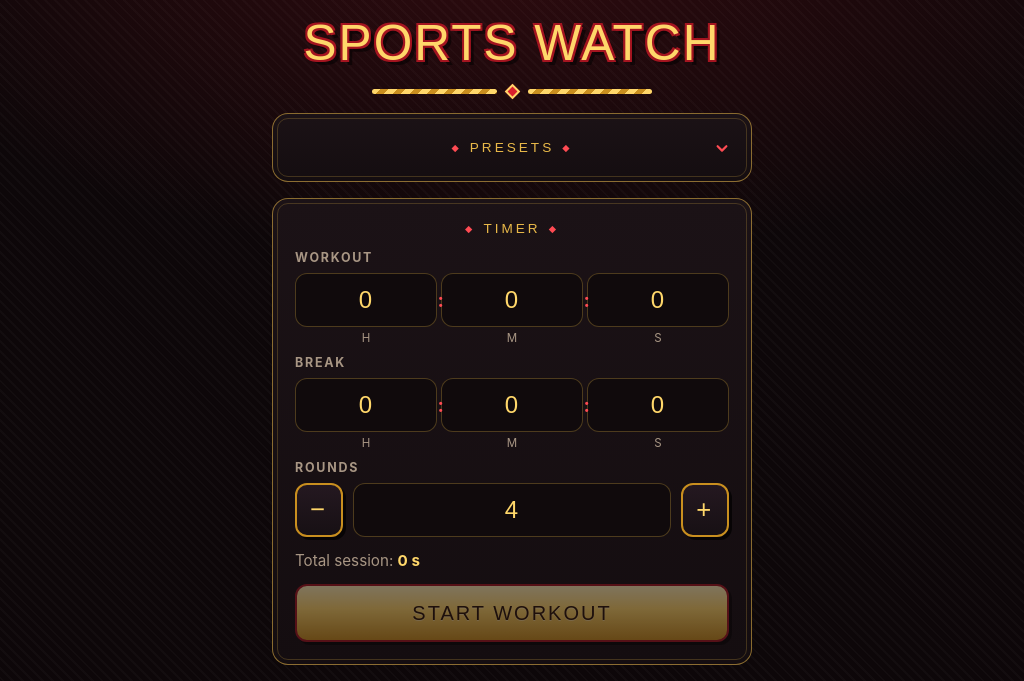
Test: deletes a preset from the list
Click the button "Presets" at coordinates (512, 148), box top-left (295, 136), bottom-right (729, 159)
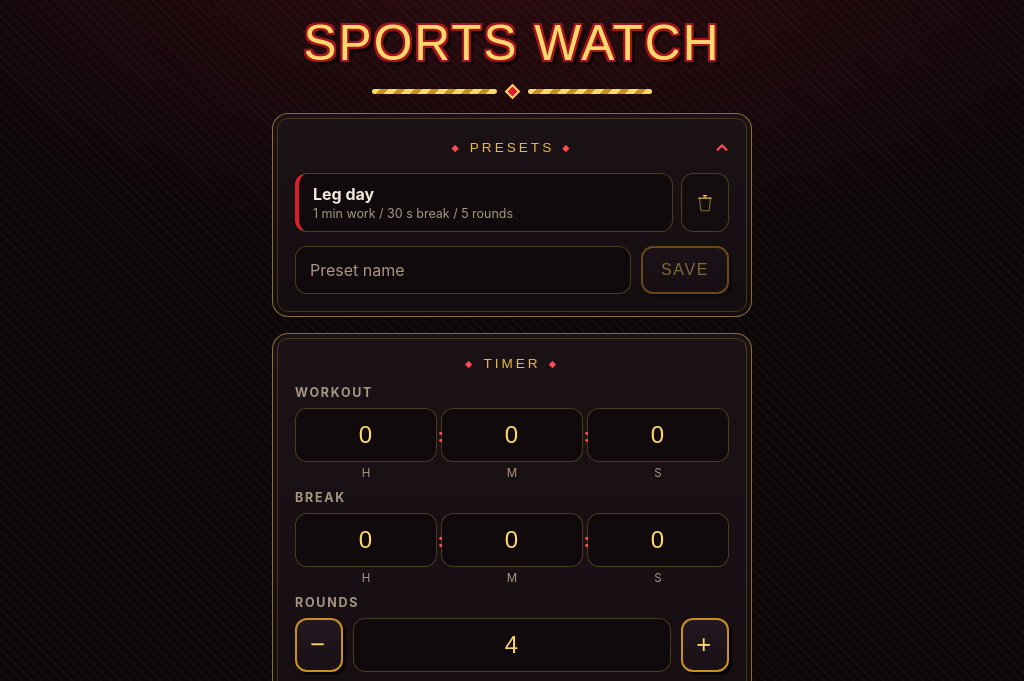
Click the button named "Delete preset Leg day" at coordinates (705, 202), box top-left (681, 173), bottom-right (729, 232)
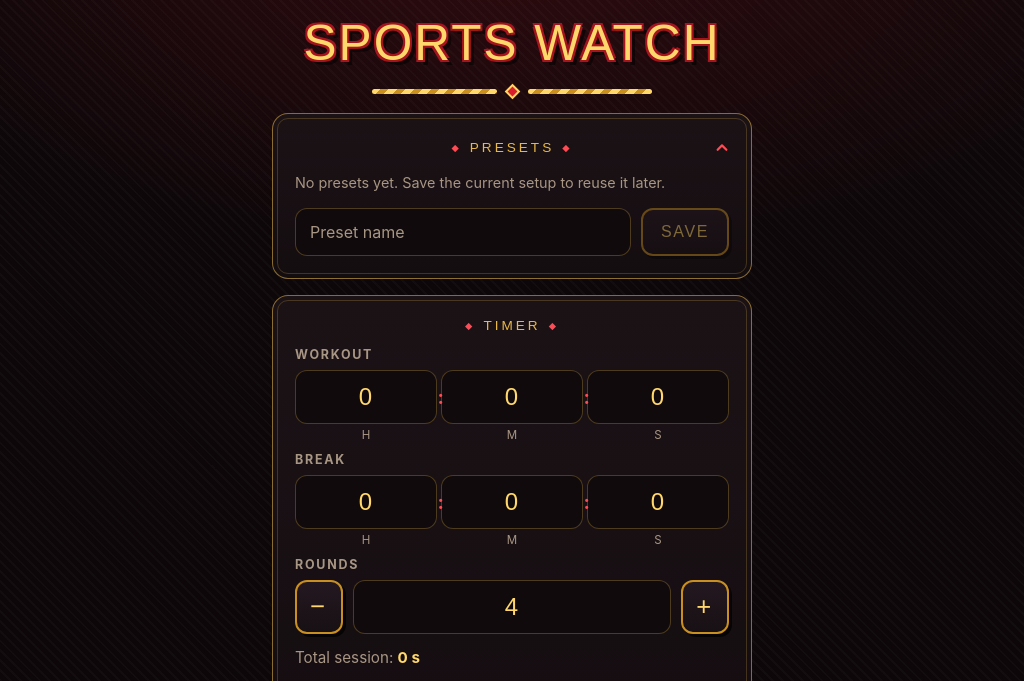
Check: the button "Leg day" is gone
